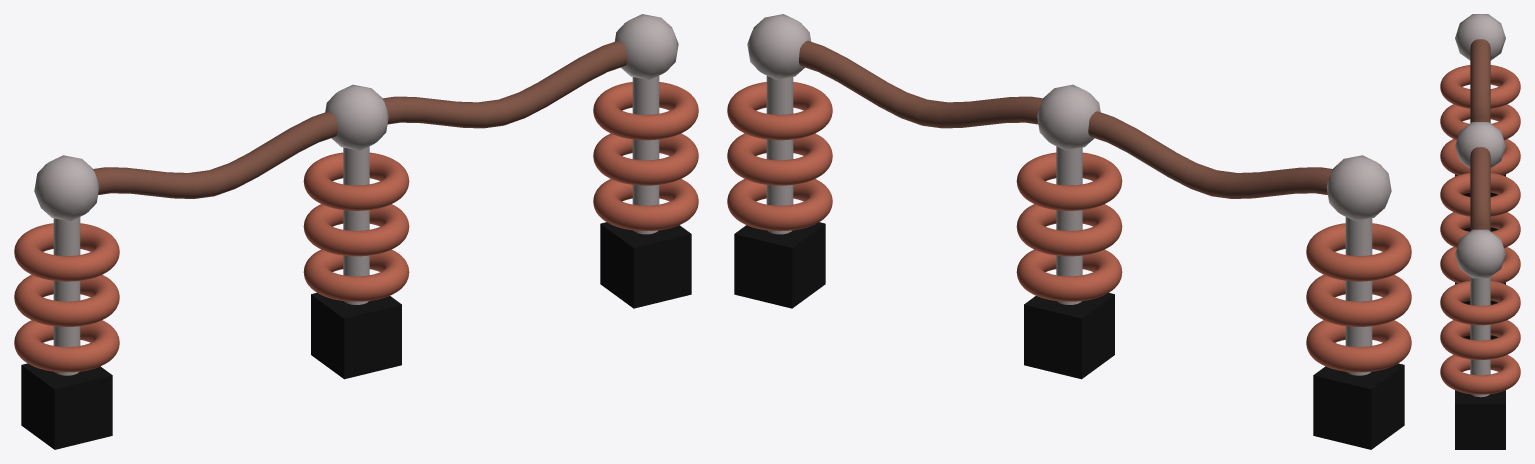
Rendered from Gate.fbx.
3 views of the same model, side by side, from view 1: azimuth 30°, elevation 25°; view 2: azimuth 150°, elevation 25°; view 3: azimuth 270°, elevation 25° (orthographic). The views are drawn at different scales.
Parts seen in each view (by area): view 1: Barrière; view 2: Barrière; view 3: Barrière.
Part boxes in pixels (<box>): Barrière: <box>14,14,698,449</box>; Barrière: <box>727,14,1411,449</box>; Barrière: <box>1440,14,1520,449</box>.
Size of the model in its own units: 232 by 90 by 31.55.
